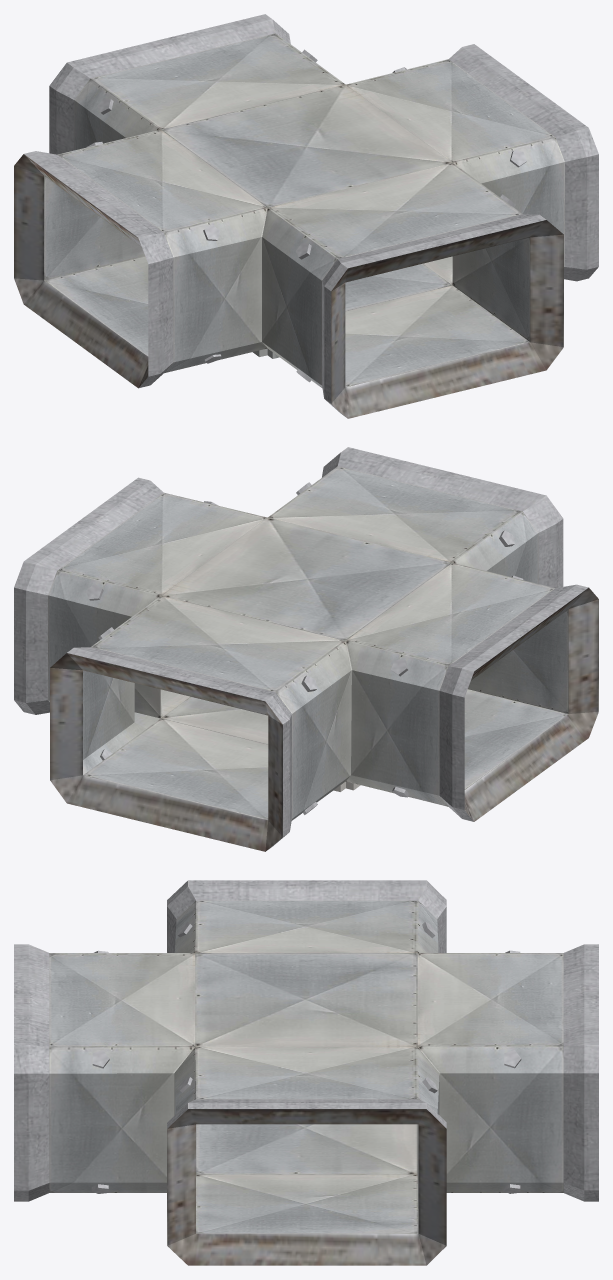
The model's file is Air Ducts_Cruz.fbx.
The picture shows the model from 3 angles, top to bottom: view 1: azimuth 30°, elevation 25°; view 2: azimuth 150°, elevation 25°; view 3: azimuth 270°, elevation 25°; orthographic projection. The views are drawn at different scales.
Visible parts, largest first — view 1: Cruz; view 2: Cruz; view 3: Cruz.
Boxes of the visible parts, box(x1,y1,x2,y2) form: Cruz: box(14, 14, 598, 418); Cruz: box(14, 447, 598, 851); Cruz: box(14, 880, 598, 1265).
Bounding box in the file's own units: 115 × 39.07 × 124.
Materials: 1 (1 with a texture image).
